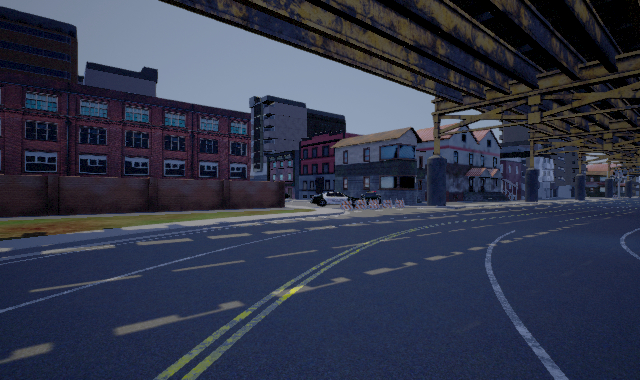vehicle: (309, 191, 360, 207)
